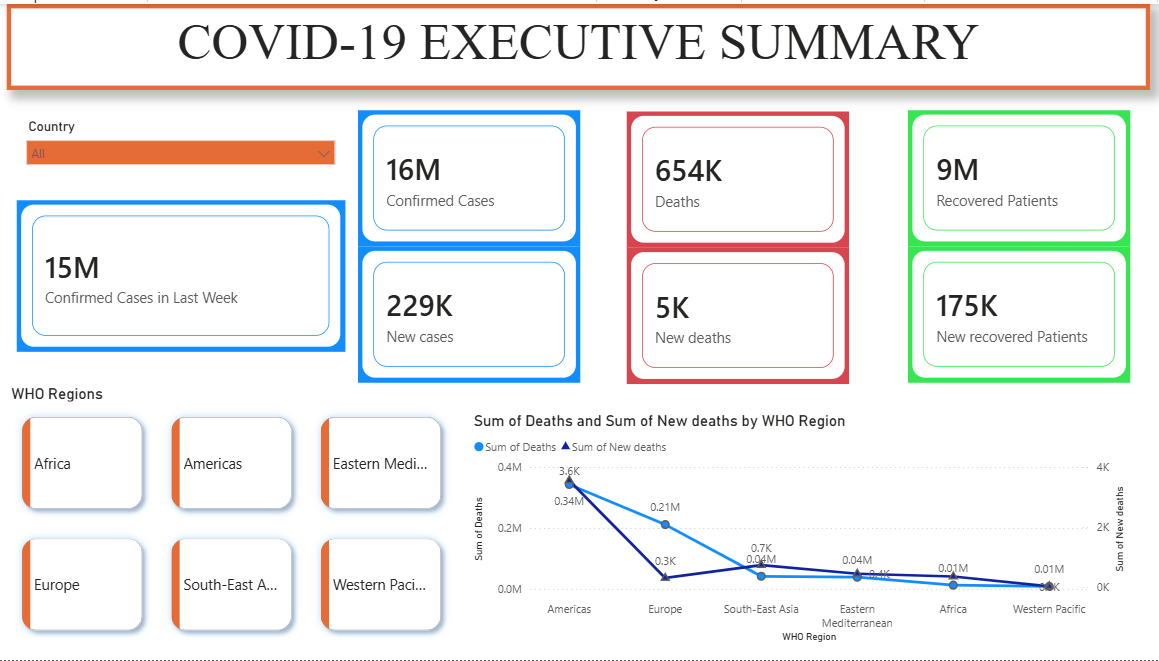

What the dashboard file says about the page in this screenshot:
{"tool":"powerbi","page":{"name":"Executive Summary","canvas":[1280,720],"ordinal":0},"visuals":[{"type":"textbox","box":[9.6,0,1255.6,94.7],"z":0},{"type":"slicer","fields":{"Values":["Covid-19 datasets.Country/Region"]},"box":[20.6,120.8,359.5,71.4],"z":1000},{"type":"cardVisual","fields":{"Data":["Sum(Covid-19 datasets.Recovered)"]},"box":[999,116.6,244.3,149.6],"z":2000},{"type":"cardVisual","fields":{"Data":["Sum(Covid-19 datasets.New cases)"]},"box":[395.2,266.2,244.3,149.6],"z":3000},{"type":"cardVisual","fields":{"Data":["Sum(Covid-19 datasets.New deaths)"]},"box":[690.2,267.6,244.3,149.6],"z":4000},{"type":"cardVisual","fields":{"Data":["Sum(Covid-19 datasets.New recovered)"]},"box":[999,266.2,244.3,149.6],"z":5000},{"type":"cardVisual","fields":{"Data":["Sum(Covid-19 datasets.Deaths)"]},"box":[690.2,118,244.3,149.6],"z":6000},{"type":"cardVisual","fields":{"Data":["Sum(Covid-19 datasets.Confirmed)"]},"box":[395.2,116.6,244.3,149.6],"z":7000},{"type":"lineChart","fields":{"Y":["Sum(Covid-19 datasets.Deaths)"],"Y2":["Sum(Covid-19 datasets.New deaths)"],"Category":["Covid-19 datasets.WHO Region"]},"box":[517.3,447.3,725.9,258],"z":8000},{"type":"advancedSlicerVisual","fields":{"Values":["Covid-19 datasets.WHO Region"]},"box":[9.6,417.2,496.7,288.2],"z":9000},{"type":"cardVisual","fields":{"Data":["Sum(Covid-19 datasets.Confirmed last week)"]},"box":[20.6,215.4,360.9,166],"z":10000}]}

Visuals, with their boxes in screenshot pixels (x1, y1, x2, y2), scaled from the page's 1280x720 canvas onto the 1159x661 screenshot:
textbox: [x1=9, y1=0, x2=1146, y2=87]
slicer - Covid-19 datasets.Country/Region: [x1=19, y1=111, x2=344, y2=176]
cardVisual - Sum(Covid-19 datasets.Recovered): [x1=905, y1=107, x2=1126, y2=244]
cardVisual - Sum(Covid-19 datasets.New cases): [x1=358, y1=244, x2=579, y2=382]
cardVisual - Sum(Covid-19 datasets.New deaths): [x1=625, y1=246, x2=846, y2=383]
cardVisual - Sum(Covid-19 datasets.New recovered): [x1=905, y1=244, x2=1126, y2=382]
cardVisual - Sum(Covid-19 datasets.Deaths): [x1=625, y1=108, x2=846, y2=246]
cardVisual - Sum(Covid-19 datasets.Confirmed): [x1=358, y1=107, x2=579, y2=244]
lineChart - Sum(Covid-19 datasets.Deaths) x Sum(Covid-19 datasets.New deaths): [x1=468, y1=411, x2=1126, y2=648]
advancedSlicerVisual - Covid-19 datasets.WHO Region: [x1=9, y1=383, x2=458, y2=648]
cardVisual - Sum(Covid-19 datasets.Confirmed last week): [x1=19, y1=198, x2=345, y2=350]
